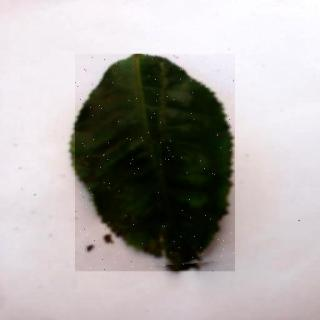Algal Leaf: (77, 55, 237, 272)
